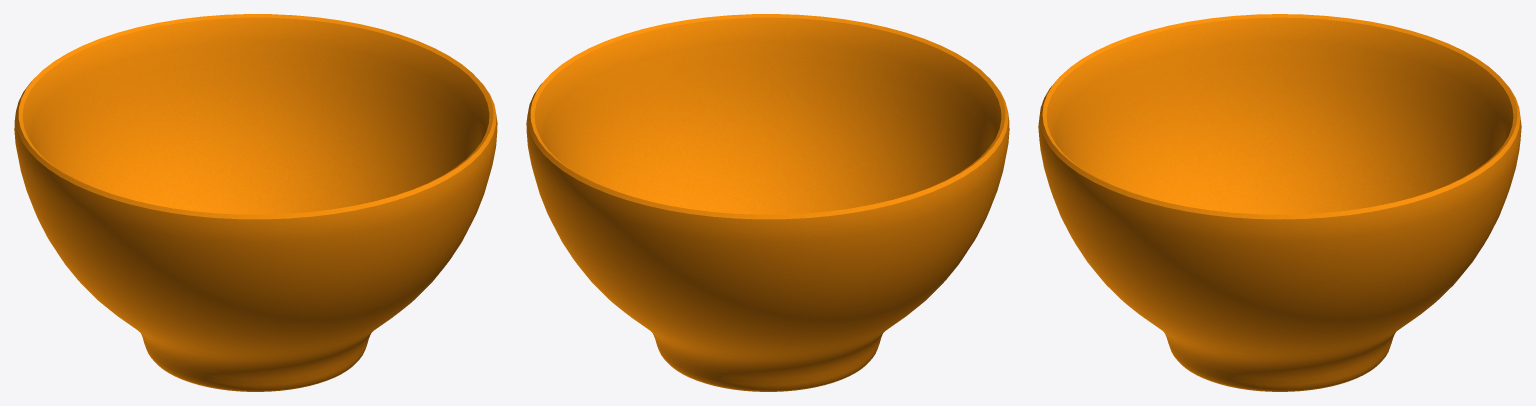
Rendered from Bowl.fbx.
3 views of the same model, side by side, from view 1: azimuth 30°, elevation 25°; view 2: azimuth 150°, elevation 25°; view 3: azimuth 270°, elevation 25° (orthographic).
Parts seen in each view (by area): view 1: _high; view 2: _high; view 3: _high.
Boxes of the visible parts, x1,y1,x2,y2 form: _high: (14,14,497,391); _high: (526,14,1009,391); _high: (1038,14,1521,391).
Bounding box in the file's own units: 190 × 101 × 190.
